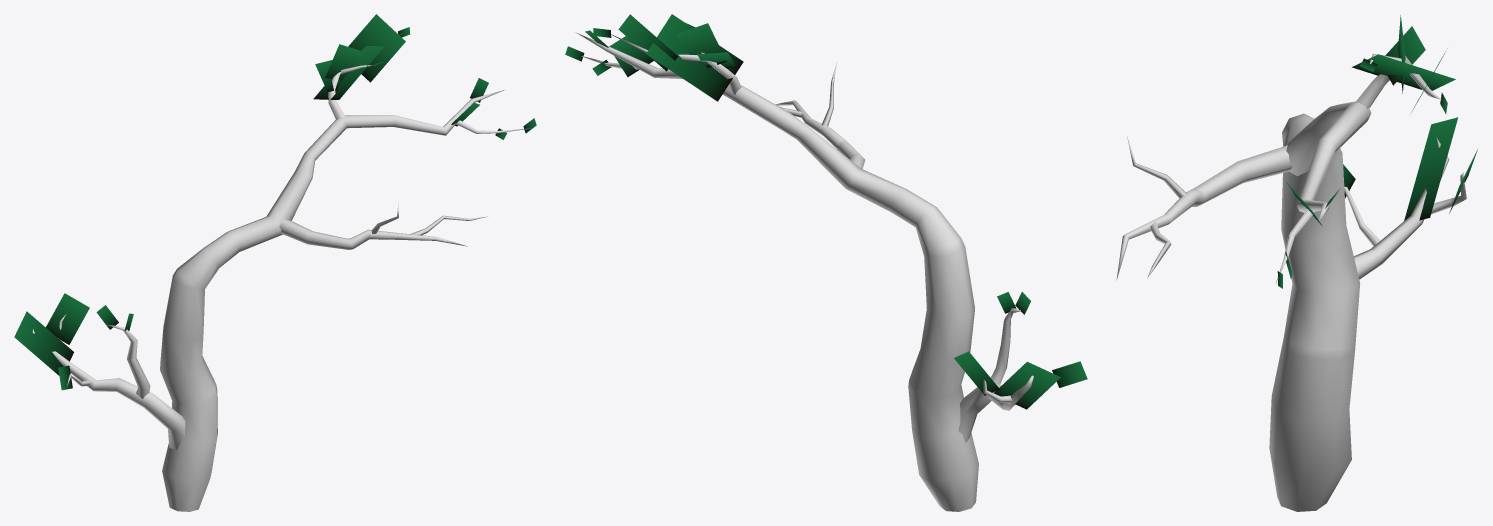
File: SM_TreeWindsweptB01.fbx
3 renders of one model, left to right at view 1: azimuth 30°, elevation 25°; view 2: azimuth 150°, elevation 25°; view 3: azimuth 270°, elevation 25°, orthographic. The views are drawn at different scales.
Visible parts, largest first — view 1: SM_TreeWindsweptB01_LOD0; view 2: SM_TreeWindsweptB01_LOD0; view 3: SM_TreeWindsweptB01_LOD0.
Part boxes in pixels (x1=…): SM_TreeWindsweptB01_LOD0: x1=14, y1=14, x2=536, y2=511; SM_TreeWindsweptB01_LOD0: x1=565, y1=14, x2=1087, y2=511; SM_TreeWindsweptB01_LOD0: x1=1116, y1=15, x2=1477, y2=511.
Bounding box in the file's own units: 1026 × 827 × 422.
